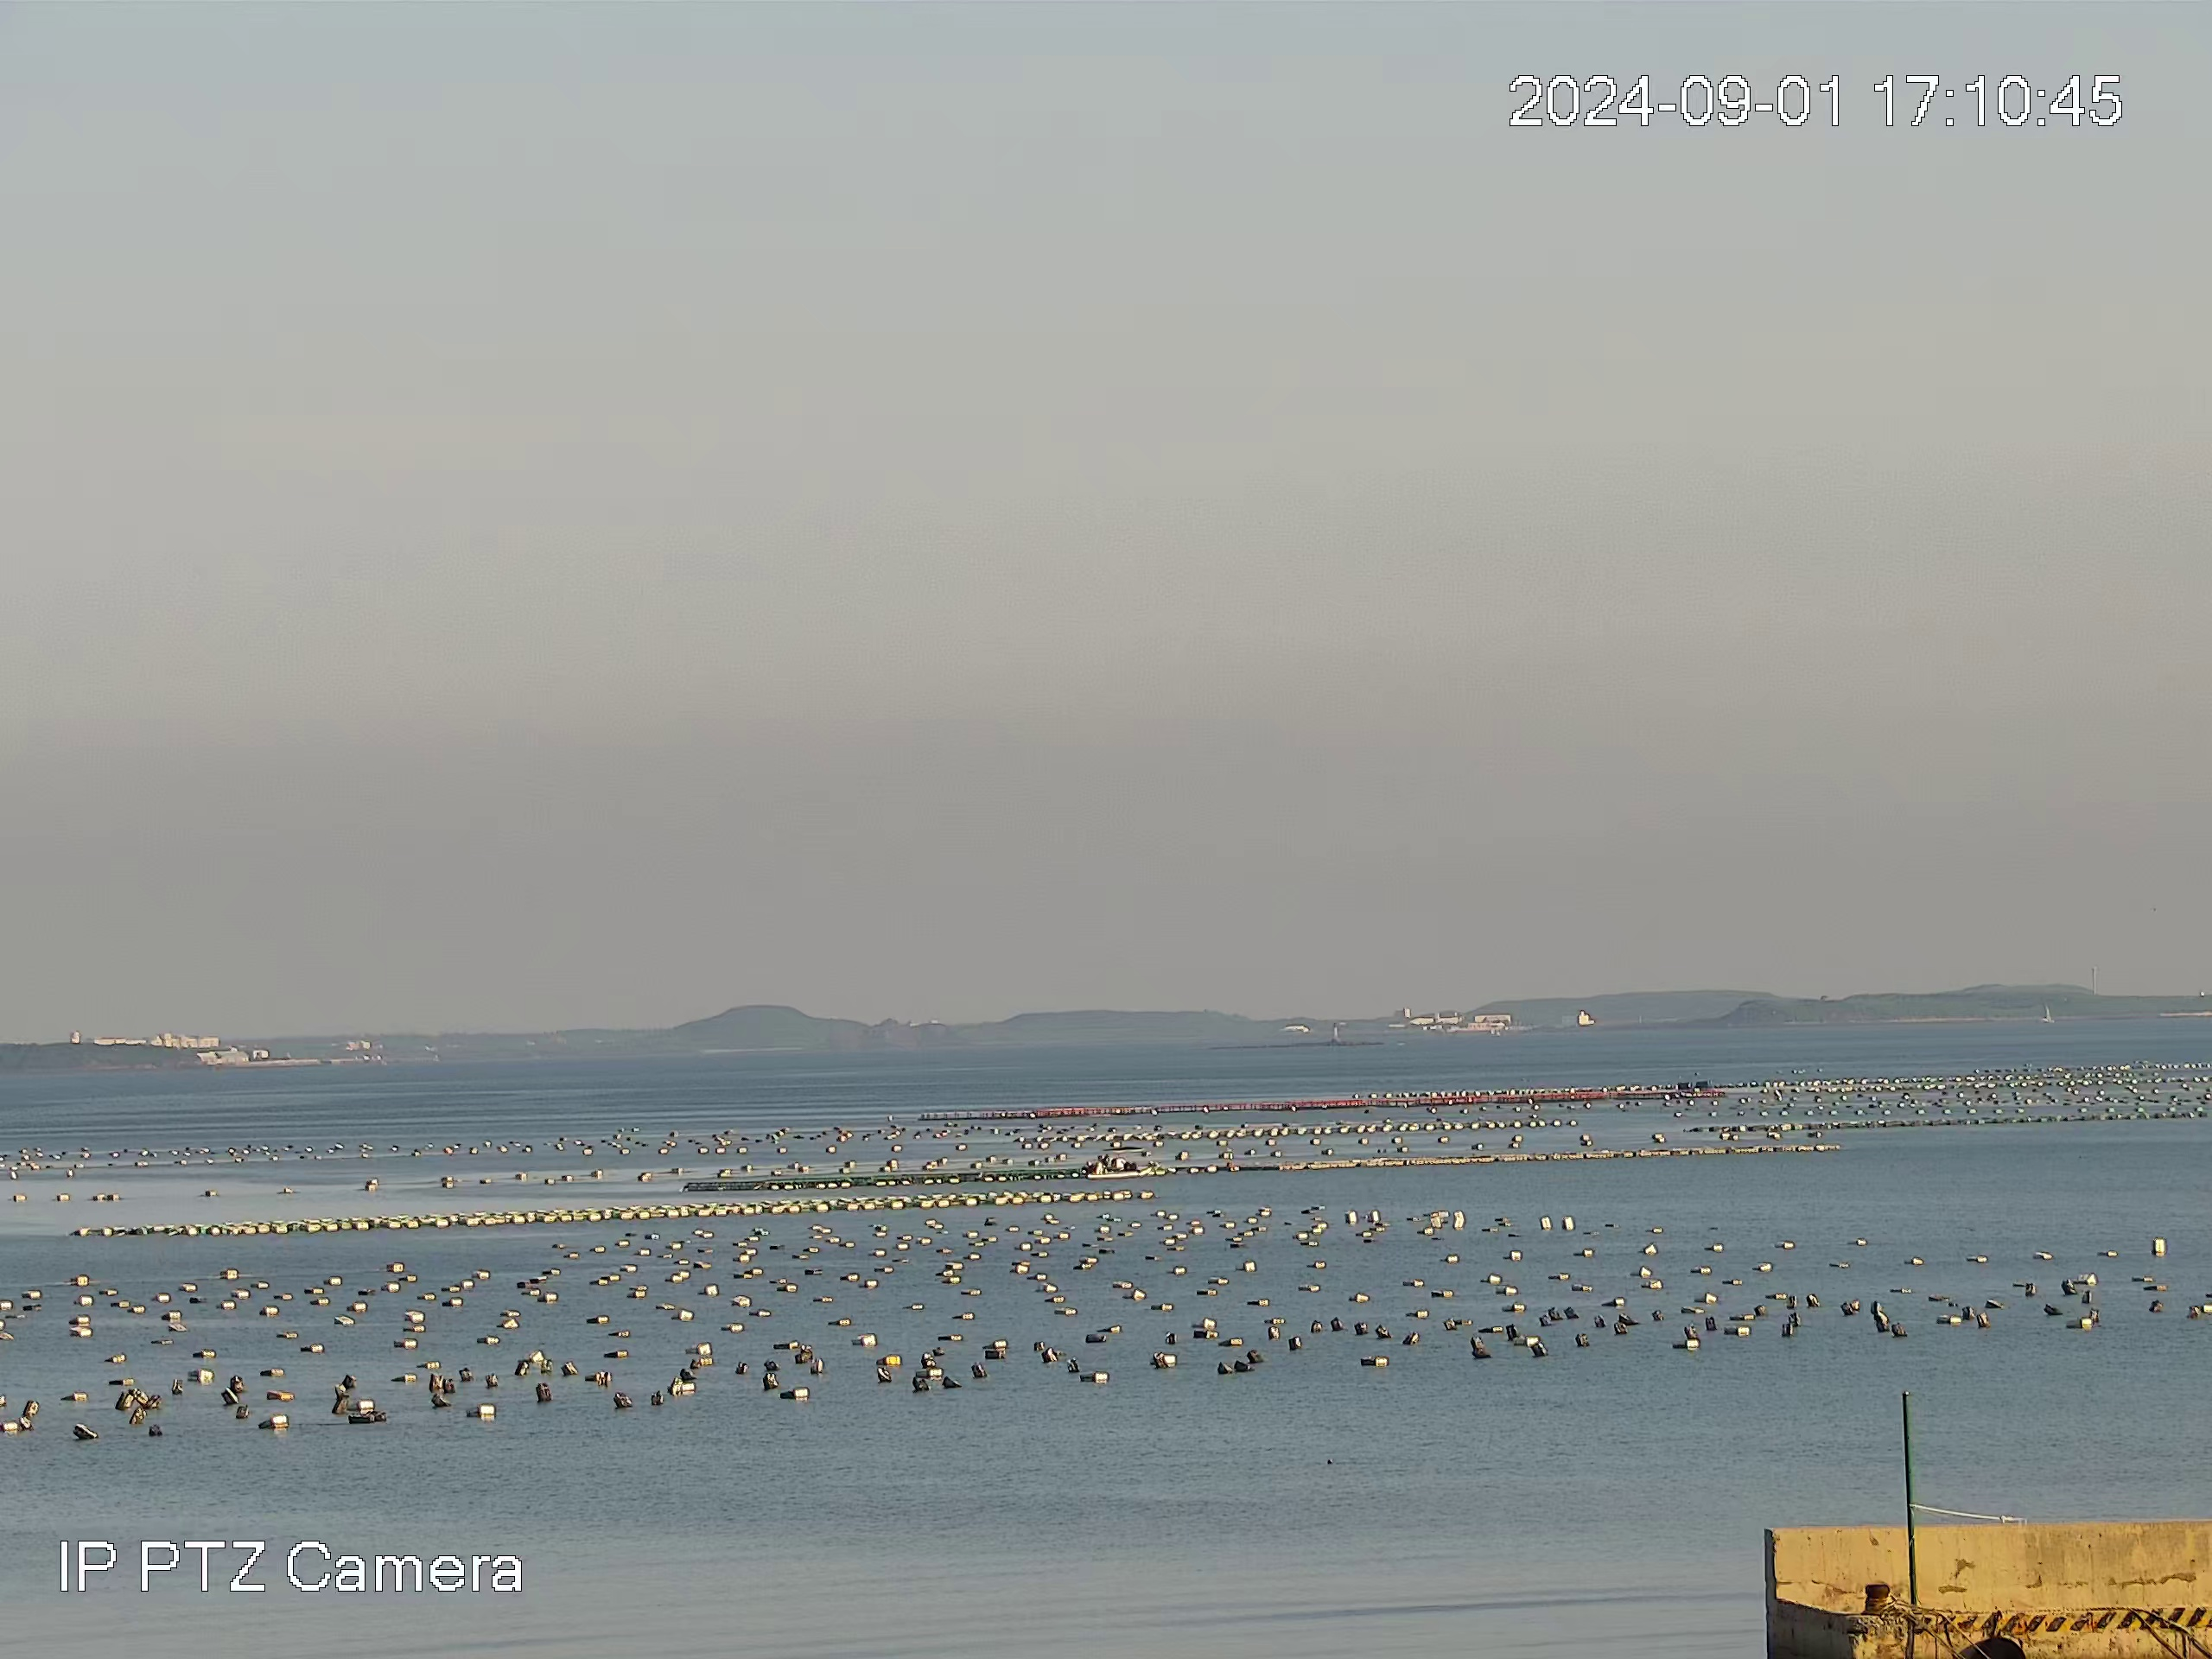boat: (1090, 1154, 1150, 1175)
